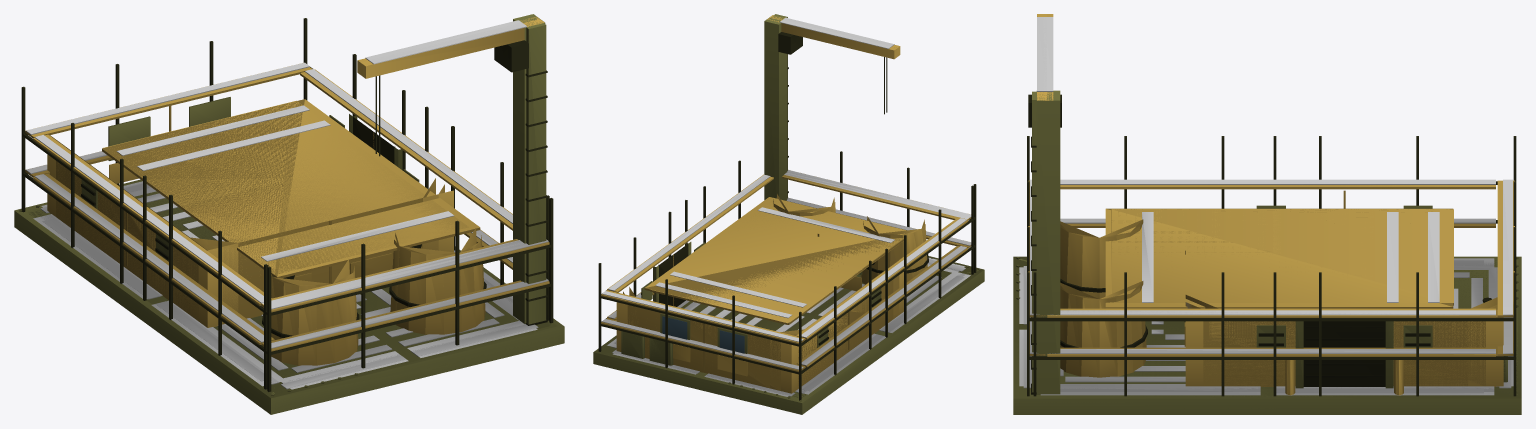
File: meridian_power_plant_scaffolding.glb
3 views of the same model, side by side, from view 1: azimuth 30°, elevation 25°; view 2: azimuth 150°, elevation 25°; view 3: azimuth 270°, elevation 25° (orthographic). The views are drawn at different scales.
Parts seen in each view (by area): view 1: body (×3); view 2: body (×3); view 3: body (×3).
Boxes of the visible parts, x1,y1,x2,y2 form: body (×3): (14, 14, 564, 414); body (×3): (593, 14, 984, 414); body (×3): (1013, 14, 1521, 414).
Bounding box in the file's own units: 7.4 × 7.57 × 11.2.
